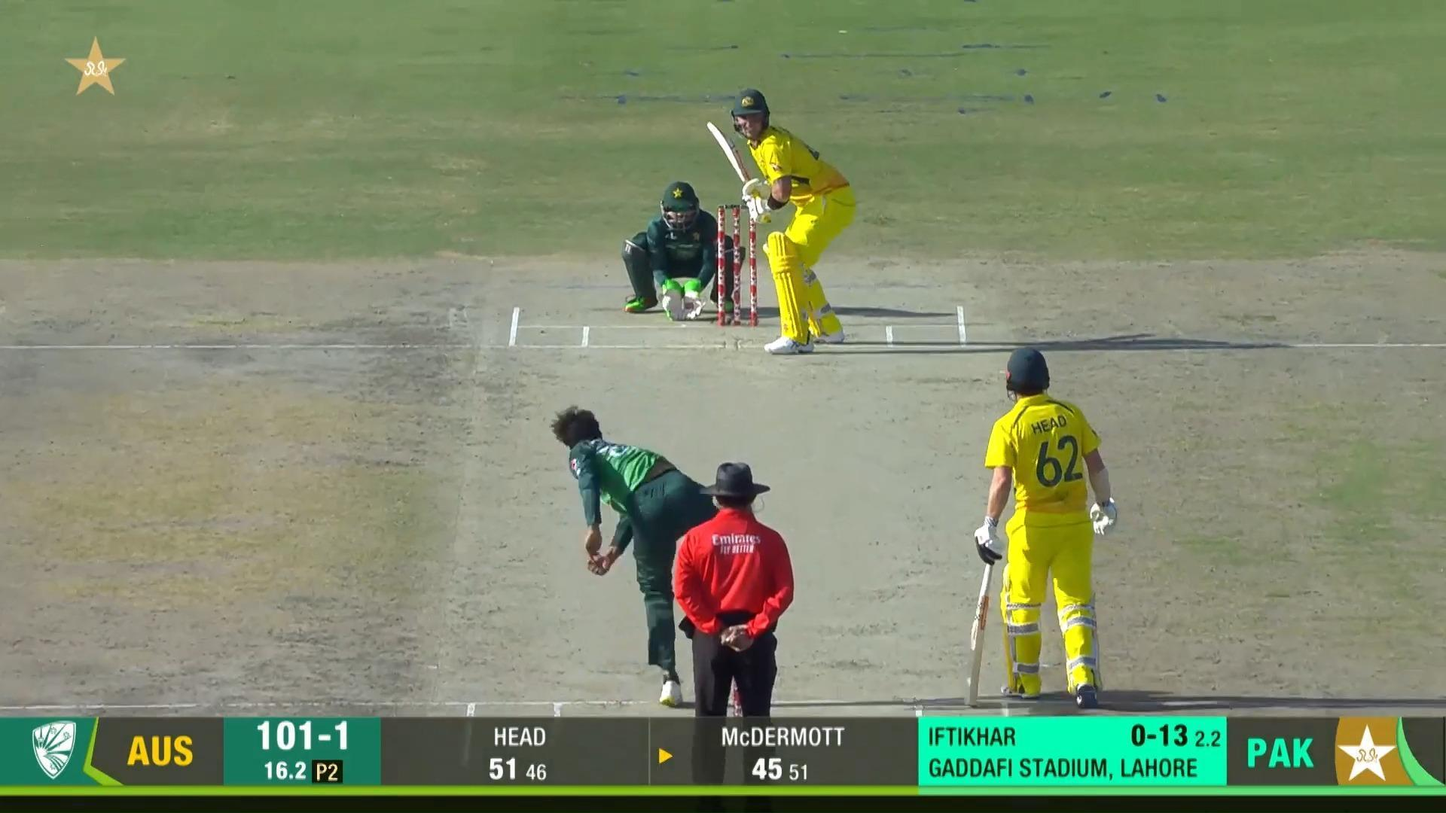BM 1: (705, 87, 854, 355)
BO: (551, 403, 720, 706)
